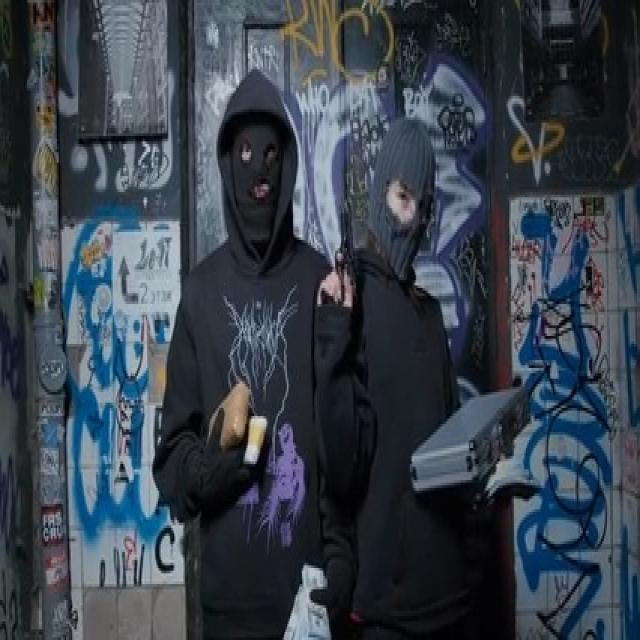Gun_Holder: (313, 200, 370, 328)
Person: (154, 60, 357, 640), (344, 99, 487, 640)
